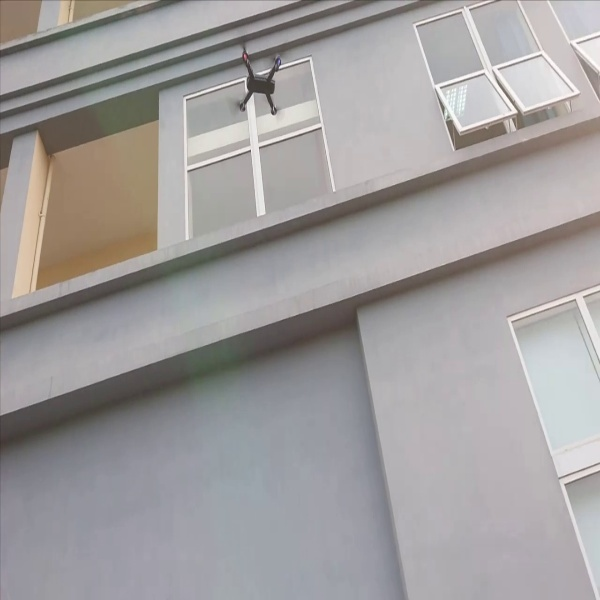drone: (230, 36, 293, 125)
